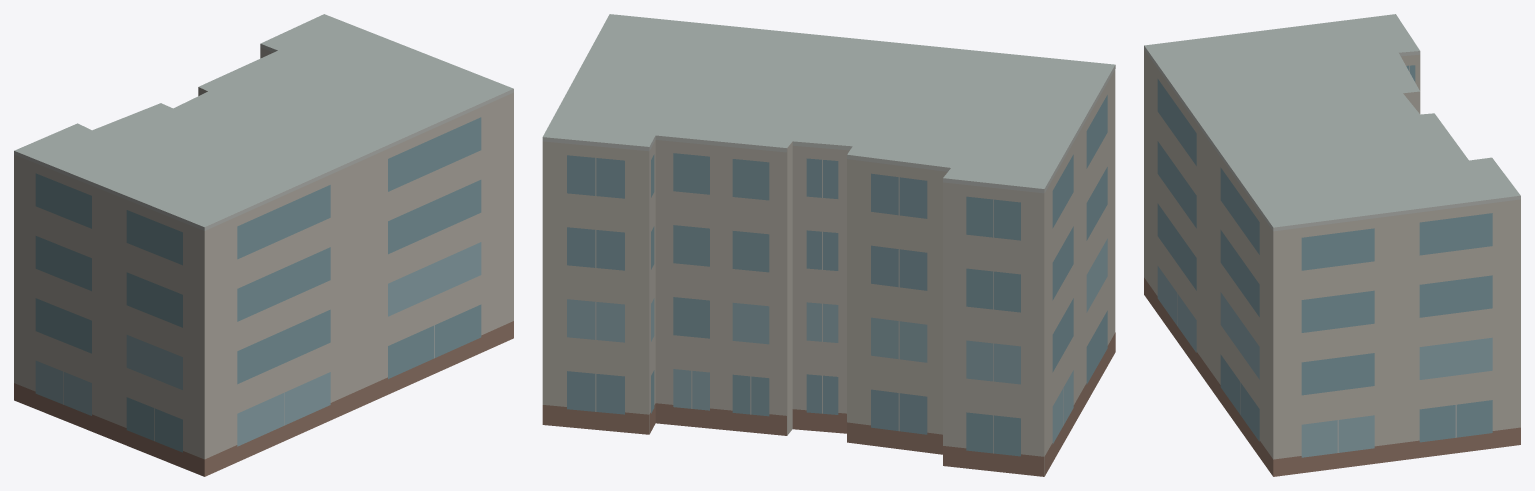
File: survey-upis-32863149.glb
3 views of the same model, side by side, from view 1: azimuth 30°, elevation 25°; view 2: azimuth 150°, elevation 25°; view 3: azimuth 270°, elevation 25° (orthographic). The views are drawn at different scales.
Visible parts, largest first — view 1: survey-upis-32863149.tmp; view 2: survey-upis-32863149.tmp; view 3: survey-upis-32863149.tmp.
Boxes of the visible parts, x1,y1,x2,y2 form: survey-upis-32863149.tmp: (14,14,513,476); survey-upis-32863149.tmp: (542,14,1115,476); survey-upis-32863149.tmp: (1144,14,1520,476).
Size of the model in its own units: 29.75 by 16.18 by 22.17.
